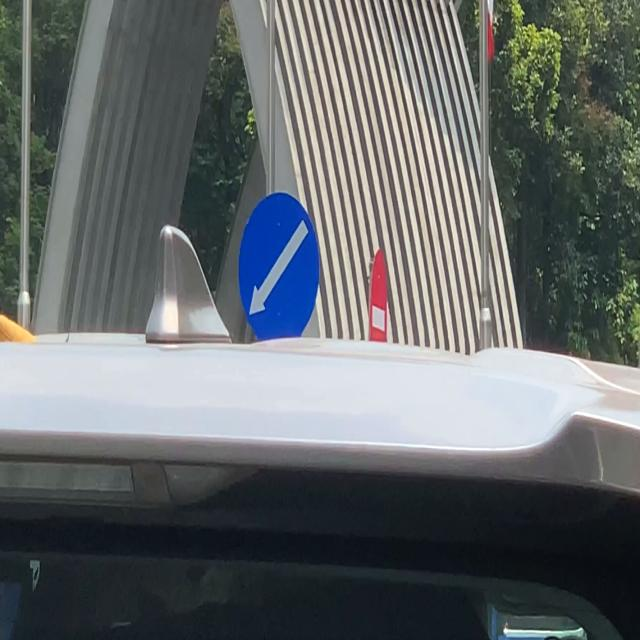Hieu lenh: (238, 184, 324, 342)
